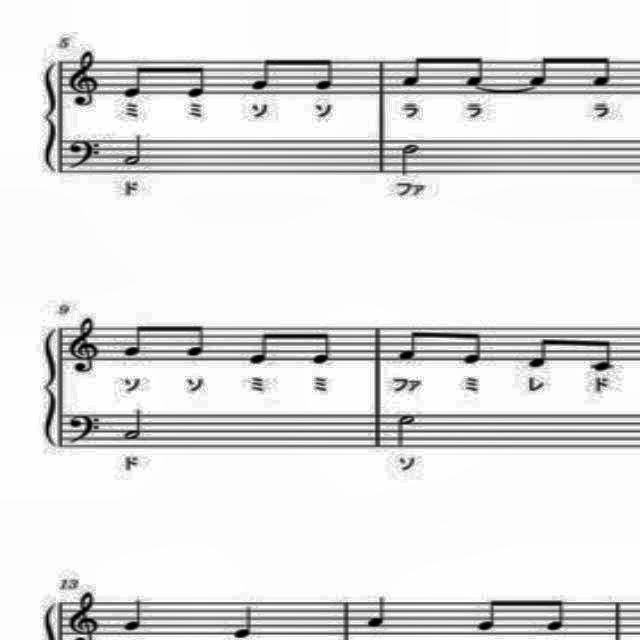Bass-clef: (65, 408, 109, 448), (66, 134, 106, 174)
Eighth-note: (538, 593, 574, 639), (246, 49, 278, 95), (474, 592, 506, 638), (246, 328, 278, 372), (584, 338, 620, 376), (117, 63, 151, 103), (391, 324, 425, 364), (462, 48, 491, 90), (177, 63, 209, 101), (311, 56, 341, 96), (459, 325, 487, 367), (310, 324, 334, 368), (527, 332, 553, 372), (120, 324, 148, 361), (526, 52, 554, 88), (591, 54, 617, 90), (401, 54, 425, 90), (182, 322, 205, 358)
Half-note: (399, 136, 425, 180), (122, 406, 150, 444), (122, 130, 148, 170), (394, 411, 420, 449)
Quarter-note: (363, 594, 393, 632), (122, 594, 146, 634), (231, 603, 255, 640)
Treble-clef: (66, 46, 104, 116), (68, 312, 104, 376)
